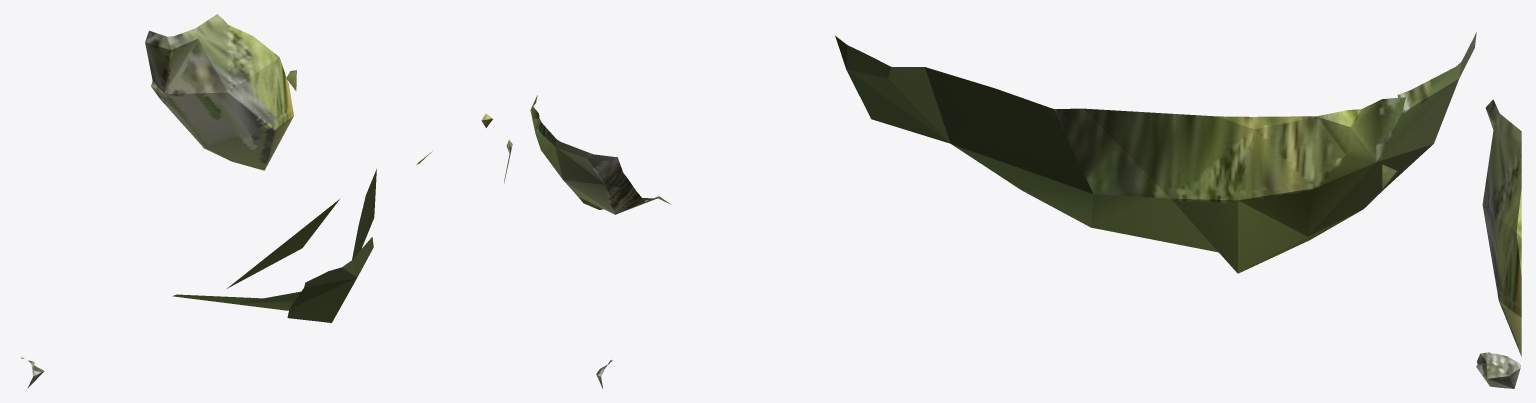
The picture shows the model from 3 angles, left to right: view 1: azimuth 30°, elevation 25°; view 2: azimuth 150°, elevation 25°; view 3: azimuth 270°, elevation 25°; orthographic projection. The views are drawn at different scales.
Size of the model in its own units: 1.64 by 1.77 by 2.95.
Materials: 2 (2 with a texture image).
